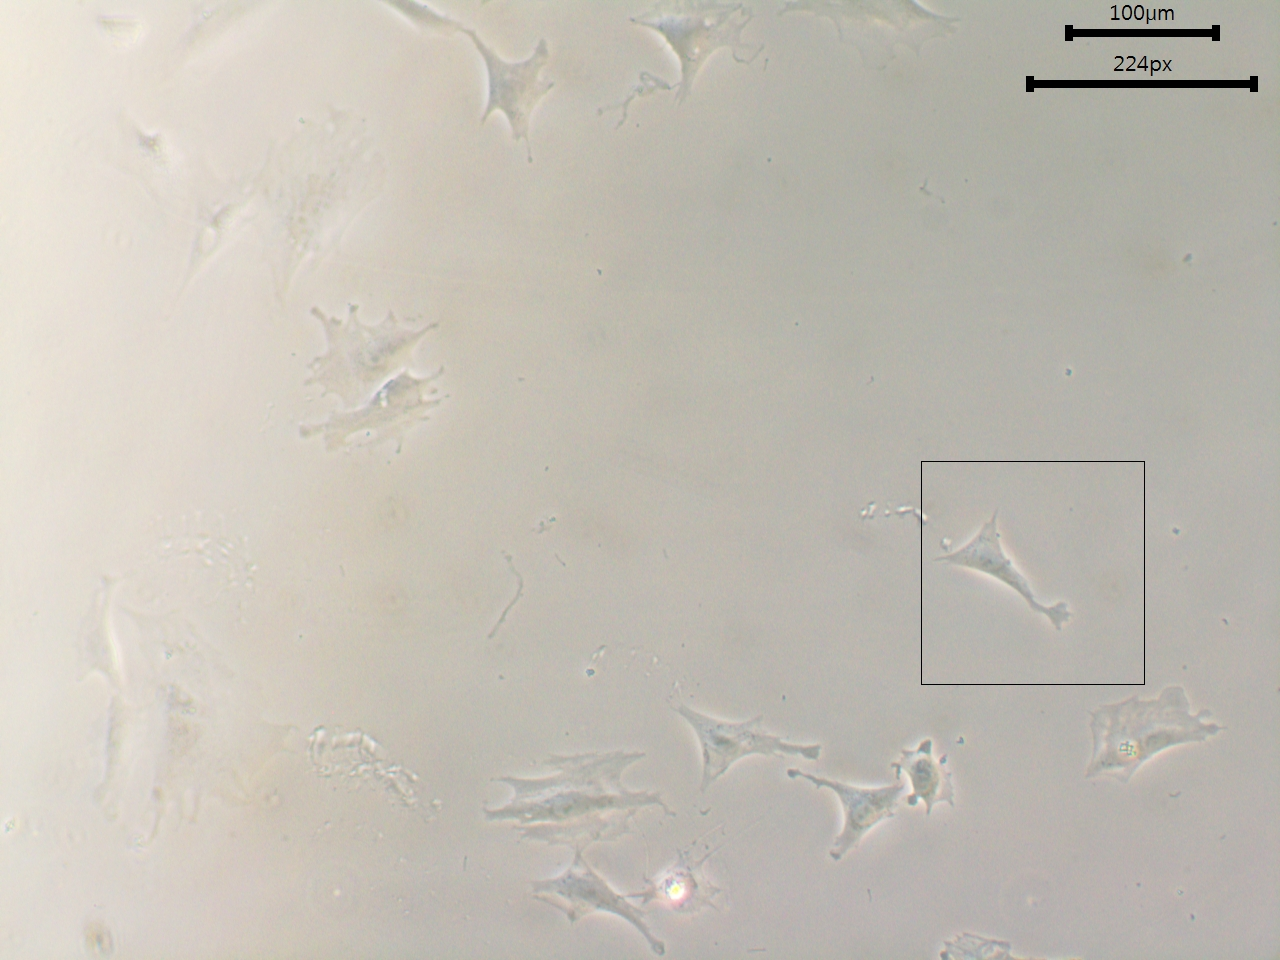medium-polygonal: (929, 500, 1082, 647), (481, 739, 665, 850), (511, 842, 665, 960)
medium-spread: (1079, 687, 1234, 784)
small-polygonal: (671, 694, 834, 800), (295, 293, 442, 404), (279, 366, 453, 457), (464, 22, 564, 177), (780, 762, 905, 869)
small-round: (891, 734, 970, 824)
